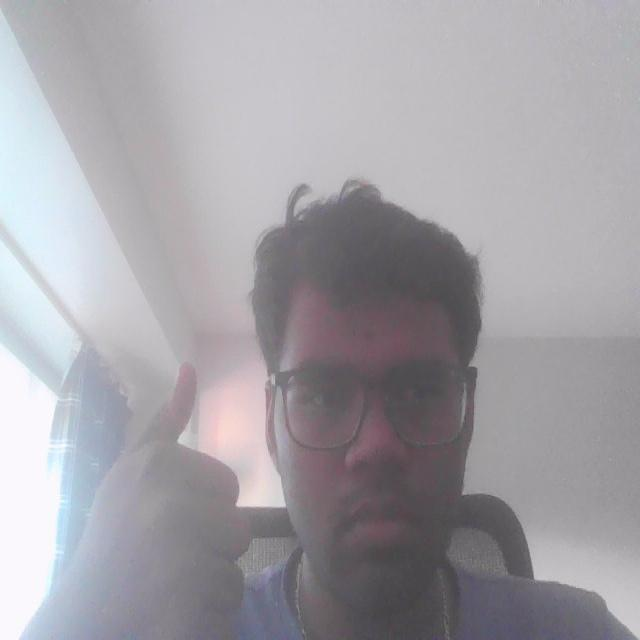Yes: (63, 358, 266, 640)
